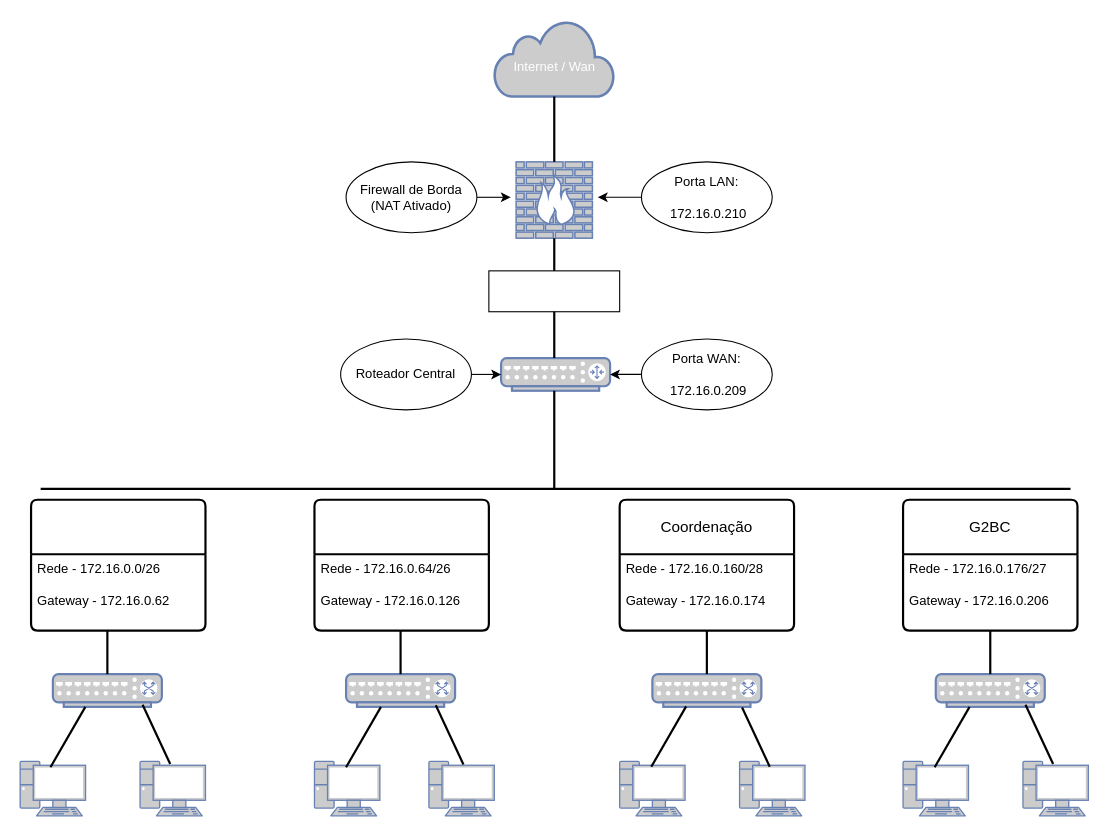
Some shapes in this 1107 by 835 pixel diagram are drawn without their labels. Each missing label, with the box of its shape:
LAM 1: (29, 498, 206, 631)
LAM 2: (313, 498, 489, 631)
Link WAN 172.16.0.208 /30: (488, 270, 620, 312)
